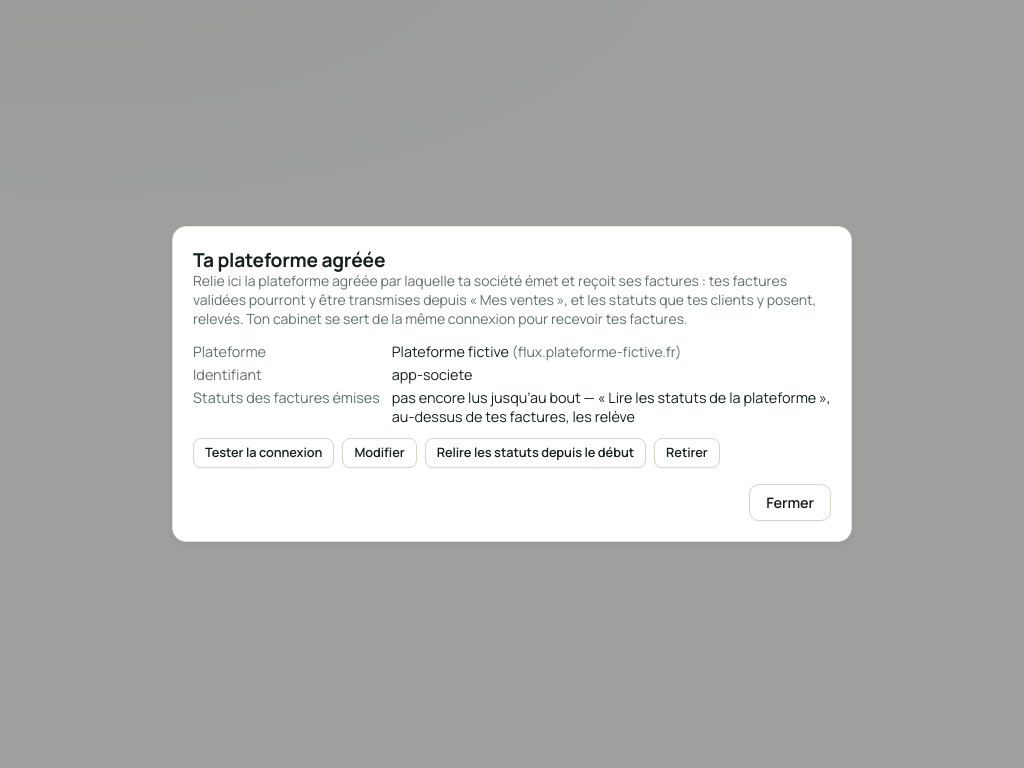
Test: « Ta plateforme agréée » en mode client › retirer : la confirmation dit ce que le client perd, et la connexion se retire
Click the button "Retirer". click: click(687, 453)
box: [654,438,720,468]
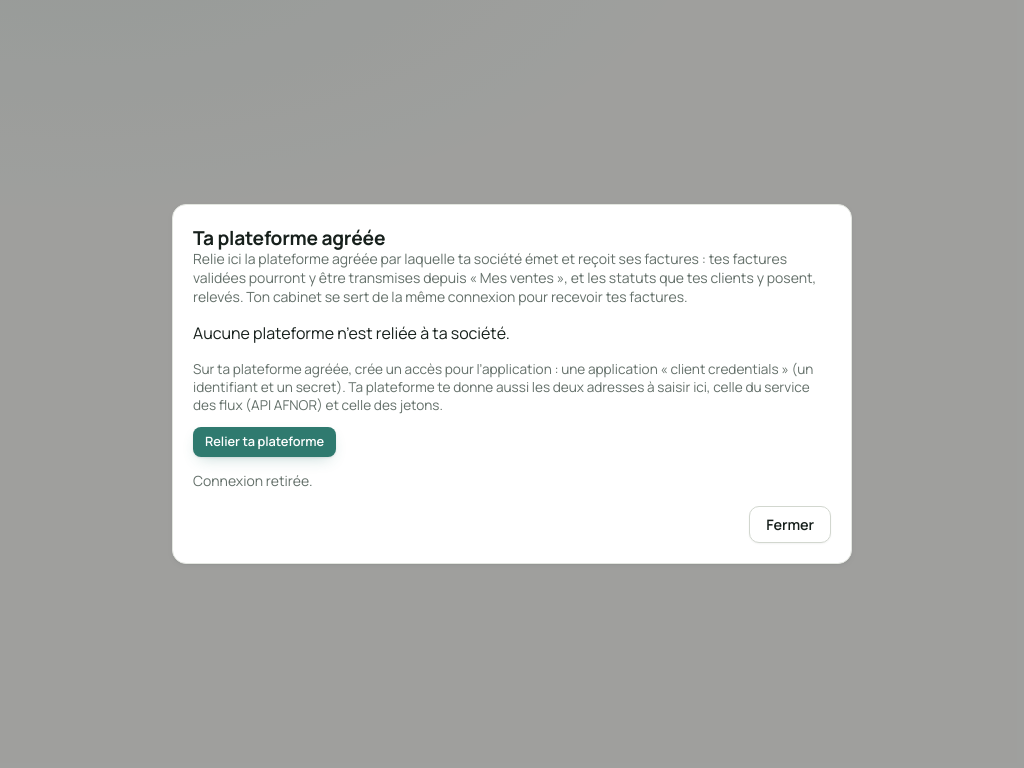
Expected: the text "Aucune plateforme n’est reliée à ta société." is shown, [193,322,510,344]
